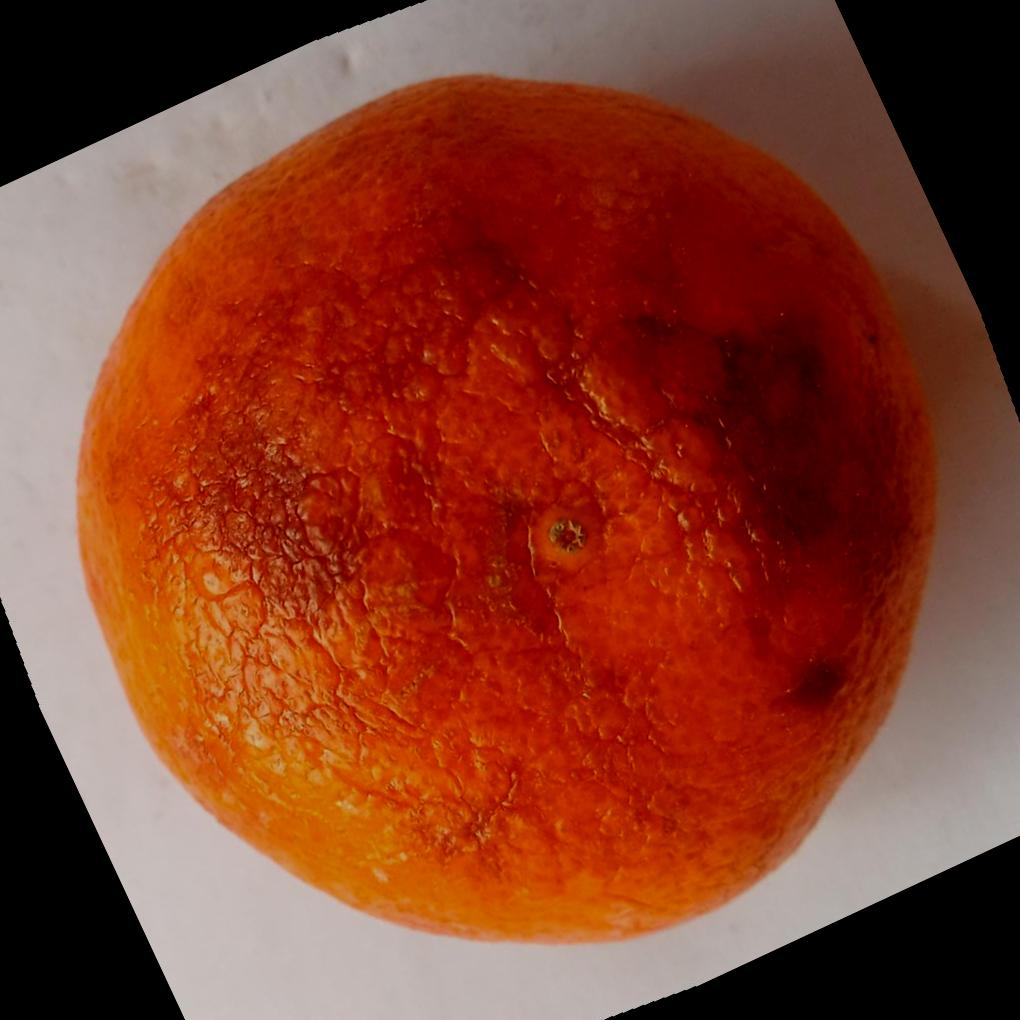FreshOrange: (75, 68, 943, 945)
